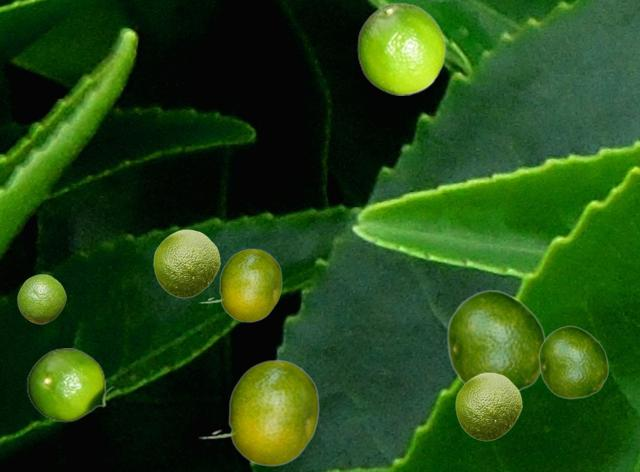calamansi: (198, 359, 318, 465), (446, 289, 545, 391), (357, 2, 445, 94), (26, 348, 114, 421), (198, 248, 281, 321), (538, 325, 608, 398), (153, 229, 219, 297), (455, 372, 521, 440), (17, 274, 65, 323)
